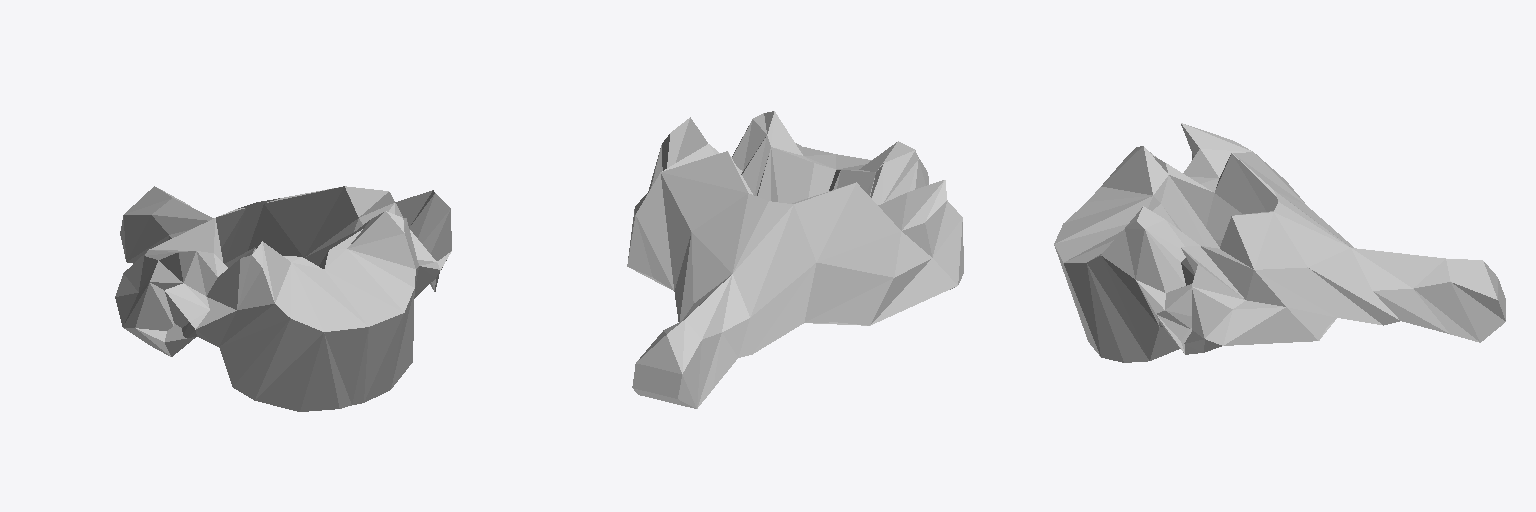
Rendered from Spine_Bone_03.obj.
The picture shows the model from 3 angles: view 1: azimuth 30°, elevation 25°; view 2: azimuth 150°, elevation 25°; view 3: azimuth 270°, elevation 25°; orthographic projection.
Parts seen in each view (by area): view 1: C03_Mesh group1; view 2: C03_Mesh group1; view 3: C03_Mesh group1.
Boxes of the visible parts, box(x1,y1,x2,y2) form: C03_Mesh group1: box(115, 186, 451, 411); C03_Mesh group1: box(627, 111, 963, 408); C03_Mesh group1: box(1054, 123, 1505, 362).
Bounding box in the file's own units: 0.58 × 0.2741 × 0.7023.